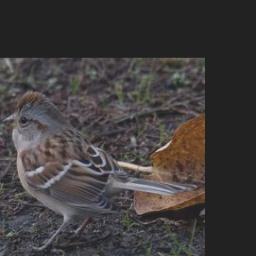Sparrow: (0, 88, 199, 256)
